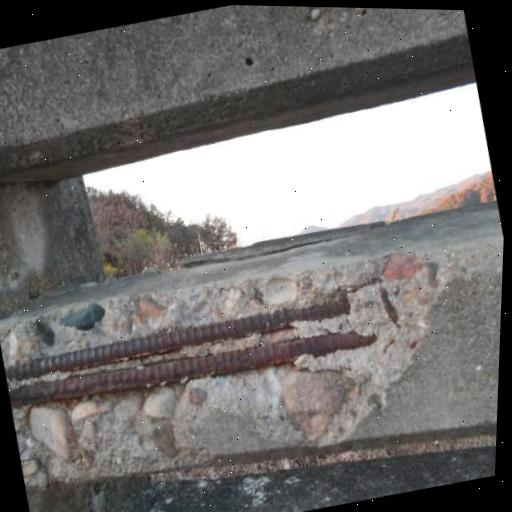exposed_rebar: (4, 296, 350, 381), (8, 330, 376, 407)
spalling: (0, 248, 488, 488)
